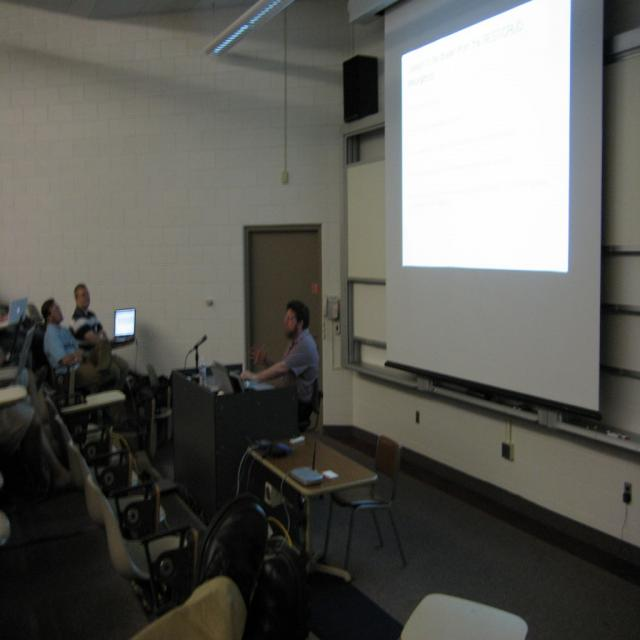chair: (338, 433, 407, 572), (399, 591, 528, 640)
desk: (247, 432, 375, 579)
laptop: (112, 307, 137, 345), (1, 297, 28, 329)
person: (0, 362, 269, 638), (244, 300, 320, 432)
tv: (383, 1, 602, 422), (112, 308, 136, 344)
